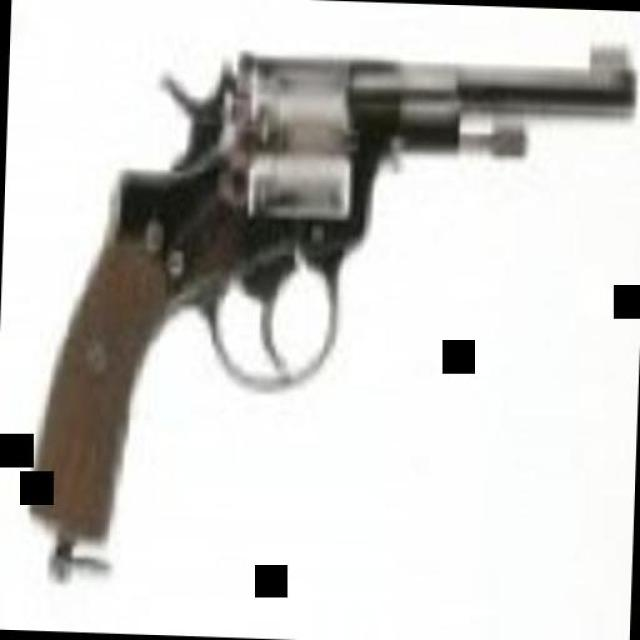gun: (22, 15, 624, 557)
